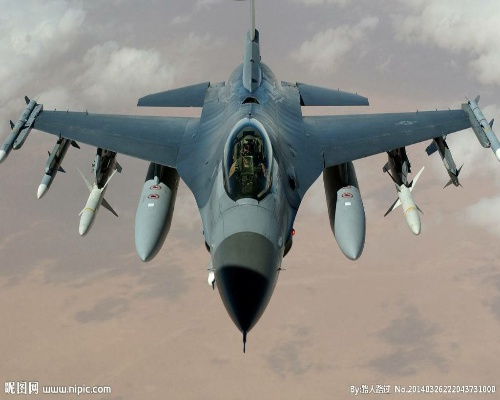plane: (10, 21, 488, 353)
